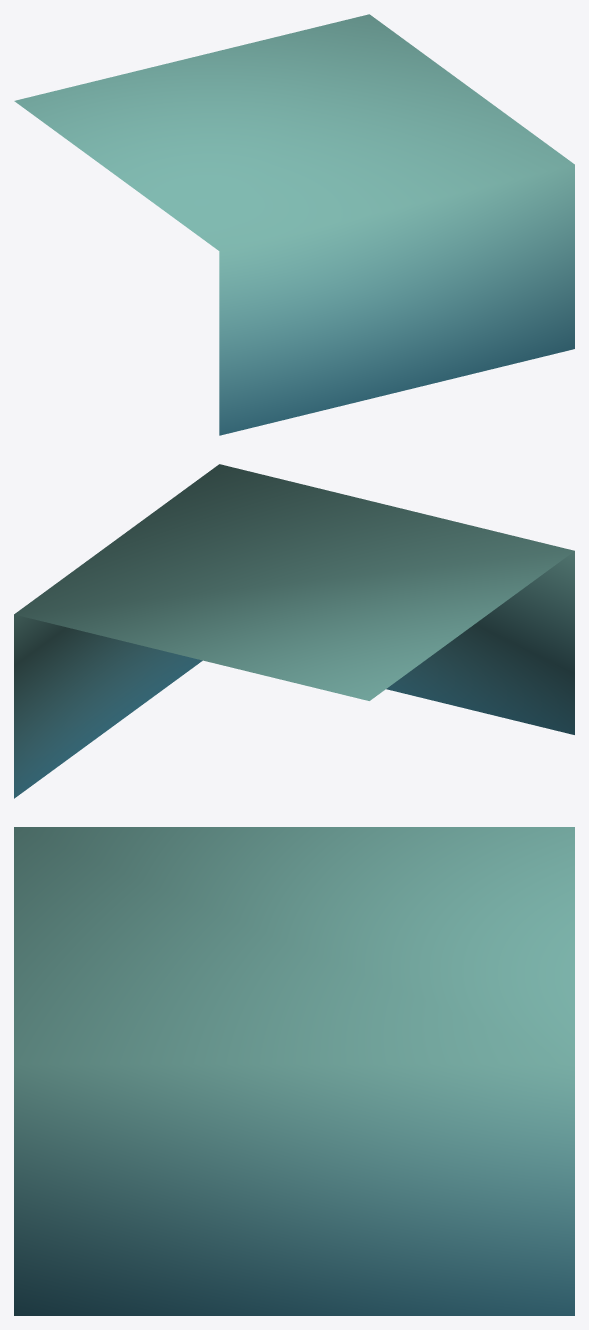
Rendered from Land_cutted.fbx.
The picture shows the model from 3 angles, top to bottom: view 1: azimuth 30°, elevation 25°; view 2: azimuth 150°, elevation 25°; view 3: azimuth 270°, elevation 25°; orthographic projection. The views are drawn at different scales.
Visible parts, largest first — view 1: Land_cutted; view 2: Land_cutted; view 3: Land_cutted.
Part boxes in pixels (box(x1,y1,x2,y2)): Land_cutted: box(14, 14, 574, 435); Land_cutted: box(14, 464, 574, 798); Land_cutted: box(14, 827, 574, 1315).
Bounding box in the file's own units: 201 × 99.77 × 201.
